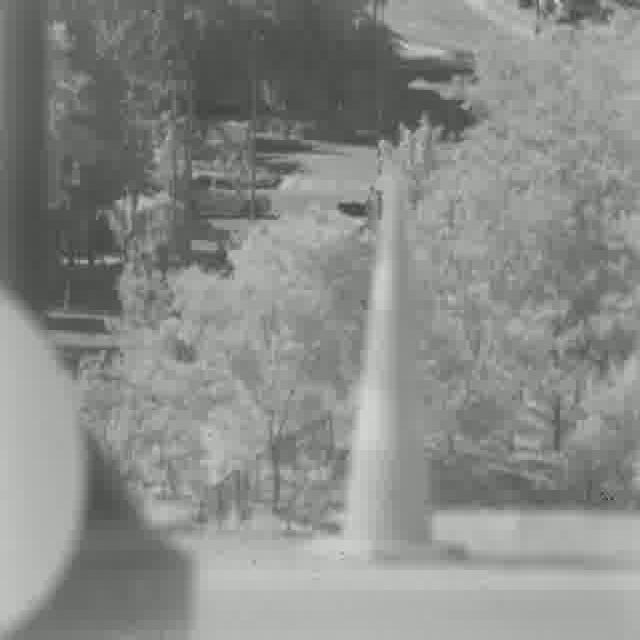Car: (338, 199, 370, 229)
